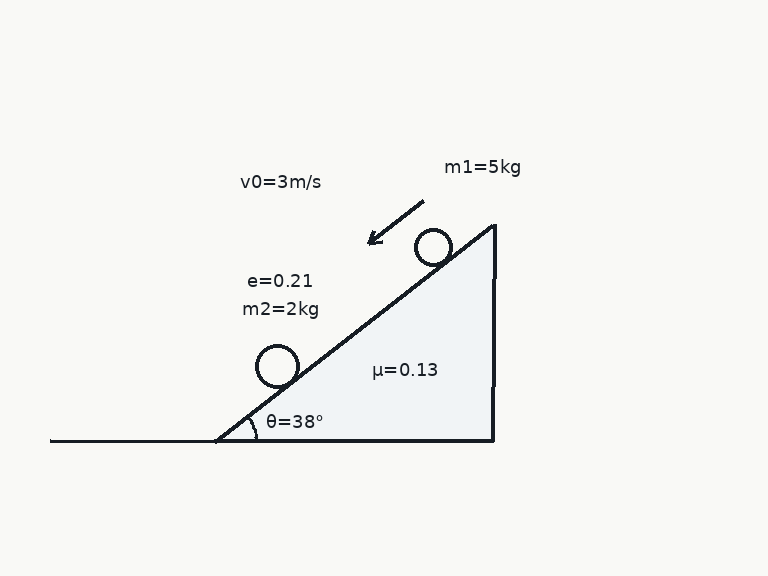ball: (253, 342, 301, 390), (412, 226, 454, 268)
ramp: (214, 223, 495, 443)
